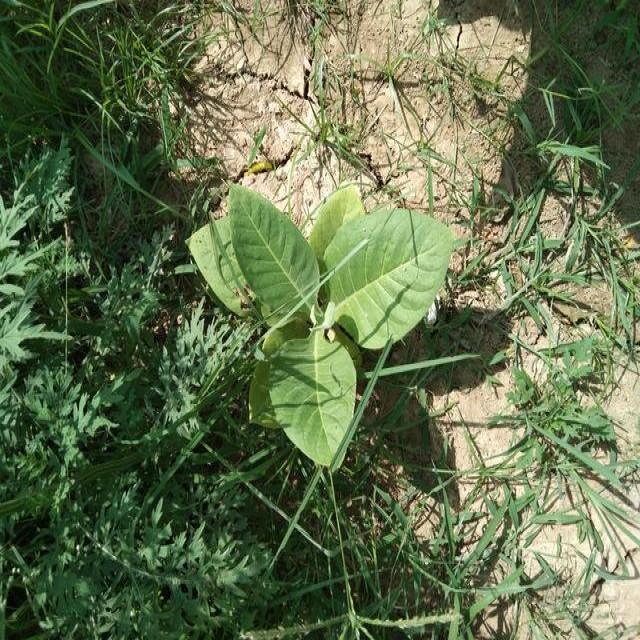crop: (183, 171, 458, 474)
